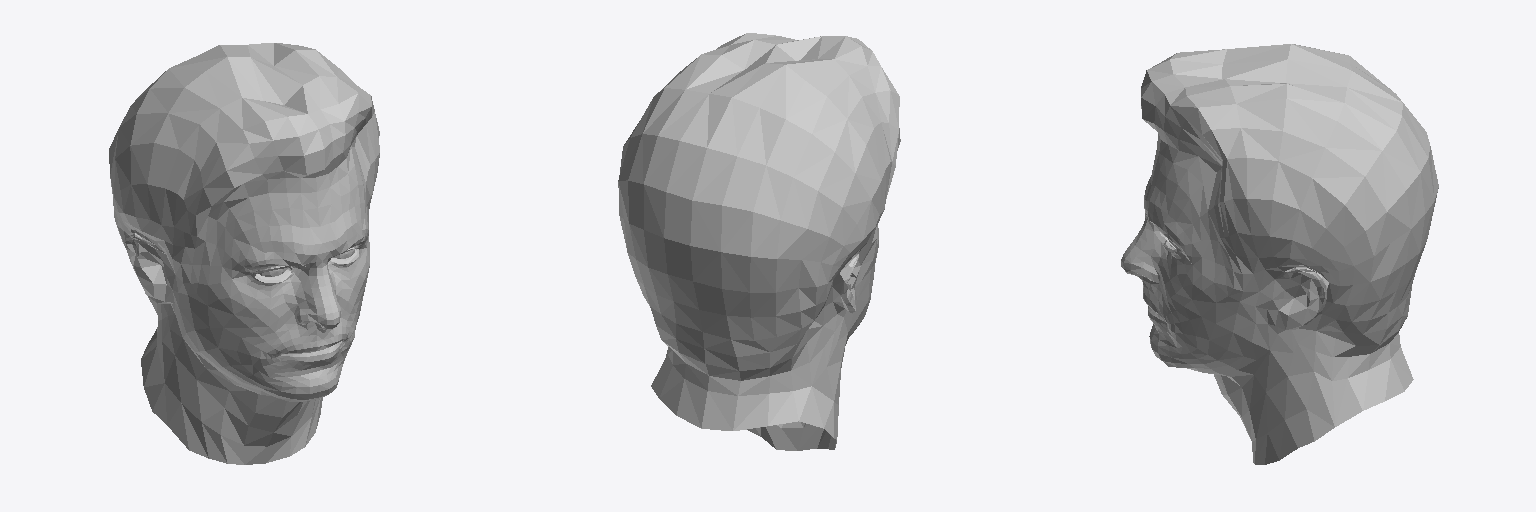
Rendered from headmodelelelelel.obj.
3 renders of one model, left to right at view 1: azimuth 30°, elevation 25°; view 2: azimuth 150°, elevation 25°; view 3: azimuth 270°, elevation 25°, orthographic.
Visible parts, largest first — view 1: theillusiveman_illHead; view 2: theillusiveman_illHead; view 3: theillusiveman_illHead.
Part boxes in pixels (x1,y1,x2,y2): theillusiveman_illHead: (109,43,379,464); theillusiveman_illHead: (618,33,900,450); theillusiveman_illHead: (1121,44,1438,464).
Bounding box in the file's own units: 7.3 × 12.27 × 8.8.